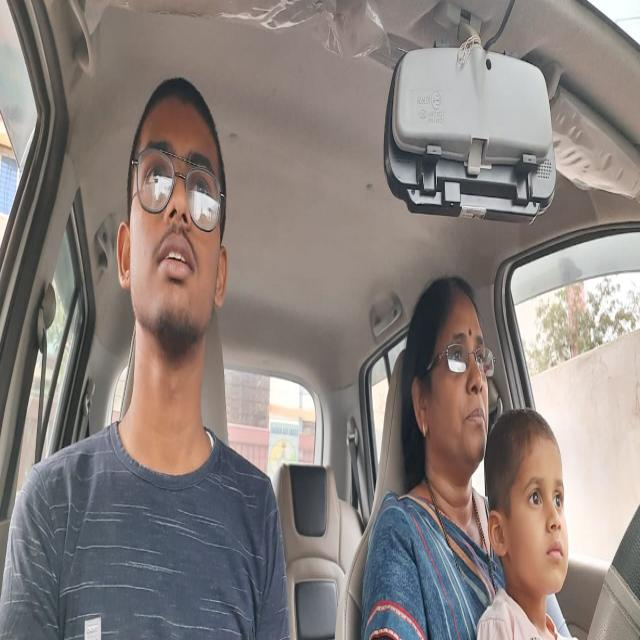child: (486, 406, 580, 614)
person: (111, 60, 239, 381), (401, 258, 499, 484)
